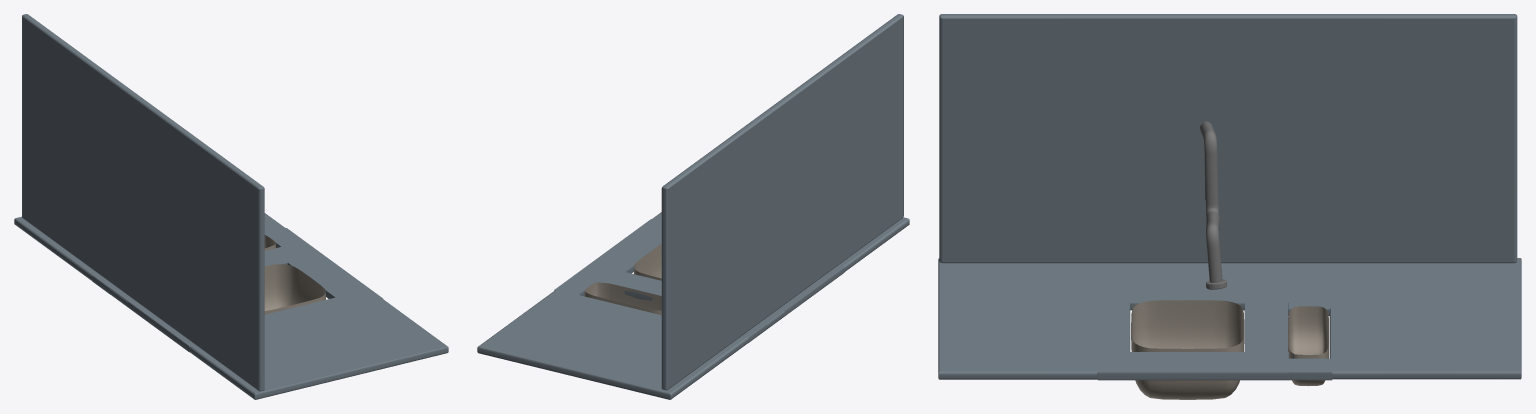
The model's file is sink.fbx.
3 views of the same model, side by side, from view 1: azimuth 30°, elevation 25°; view 2: azimuth 150°, elevation 25°; view 3: azimuth 270°, elevation 25° (orthographic). The views are drawn at different scales.
Parts seen in each view (by area): view 1: pasted__pCube6, polySurface13, pCube3, polySurface5, pCube6, pCube7, pCube9, pCube10; view 2: pasted__pCube6, pCube6, pCube3, pCube7, polySurface4, polySurface13, pCube9, polySurface5, pCube10; view 3: pasted__pCube6, pCube6, polySurface13, polySurface5, pCube3, pCube9, pCube7, polySurface4, pCube11, pCube10, polySurface12, polySurface11 (+1 smaller).
Boxes of the visible parts, box(x1,y1,x2,y2) form: pasted__pCube6: box(22, 14, 264, 391); polySurface13: box(178, 289, 448, 399); pCube3: box(271, 241, 382, 306); polySurface5: box(264, 264, 325, 314); pCube6: box(14, 213, 285, 280); pCube7: box(110, 245, 320, 307); pCube9: box(110, 288, 193, 352); pCube10: box(264, 228, 307, 248); pasted__pCube6: box(661, 14, 903, 390); pCube6: box(477, 290, 749, 399); pCube3: box(573, 219, 661, 283); pCube7: box(576, 264, 784, 328); polySurface4: box(584, 282, 661, 314); polySurface13: box(651, 212, 909, 271); pCube9: box(765, 265, 844, 323); polySurface5: box(634, 244, 661, 280); pCube10: box(554, 276, 595, 296); pasted__pCube6: box(939, 14, 1517, 263); pCube6: box(1329, 258, 1521, 379); polySurface13: box(938, 258, 1130, 379); polySurface5: box(1131, 300, 1244, 399); pCube3: box(1097, 352, 1288, 380); pCube9: box(1098, 263, 1288, 310); pCube7: box(1244, 263, 1288, 351); polySurface4: box(1288, 306, 1328, 386); pCube11: box(1288, 263, 1331, 315); pCube10: box(1288, 358, 1332, 380); polySurface12: box(1206, 215, 1226, 289); polySurface11: box(1204, 157, 1219, 228).
Size of the model in its own units: 7.02 by 8.67 by 14.99.
